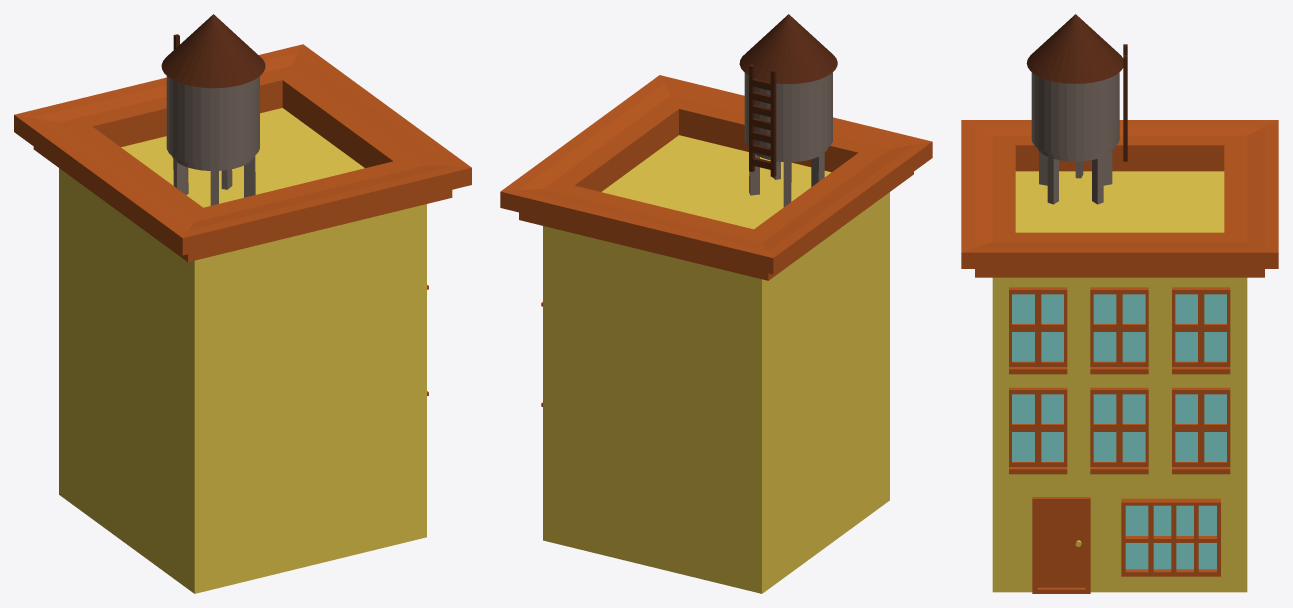
File: apartmentv2.fbx
3 renders of one model, left to right at view 1: azimuth 30°, elevation 25°; view 2: azimuth 150°, elevation 25°; view 3: azimuth 270°, elevation 25°, orthographic. The views are drawn at different scales.
Visible parts, largest first — view 1: Cube.032; view 2: Cube.032; view 3: Cube.032.
Part boxes in pixels (x1,y1,x2,y2): Cube.032: (14,14,471,593); Cube.032: (500,14,932,593); Cube.032: (961,14,1278,593).
Bounding box in the file's own units: 2691 × 4733 × 2720.
